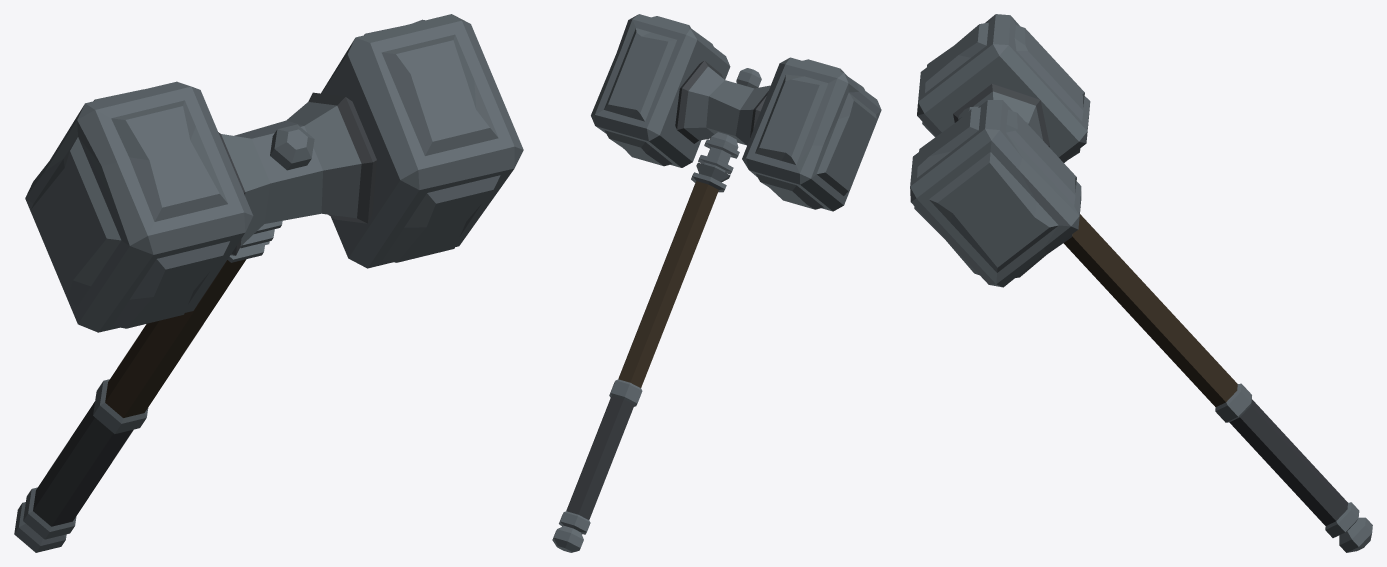
Rendered from fk-hammer-01.glb.
3 renders of one model, left to right at view 1: azimuth 30°, elevation 25°; view 2: azimuth 150°, elevation 25°; view 3: azimuth 270°, elevation 25°, orthographic. The views are drawn at different scales.
Visible parts, largest first — view 1: fk-hammer-01; view 2: fk-hammer-01; view 3: fk-hammer-01.
Part boxes in pixels (<box>): fk-hammer-01: <box>14,14,523,552</box>; fk-hammer-01: <box>552,14,881,552</box>; fk-hammer-01: <box>910,14,1372,552</box>.
Bounding box in the file's own units: 0.6662 × 1.07 × 0.9537.
Materials: 1 (1 with a texture image).
